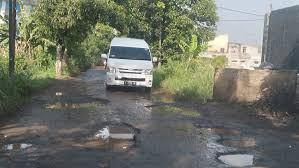Pothole: (73, 119, 152, 158), (139, 94, 220, 123), (0, 135, 53, 160), (36, 93, 116, 109), (212, 148, 270, 168), (211, 135, 257, 156), (195, 124, 250, 137)
